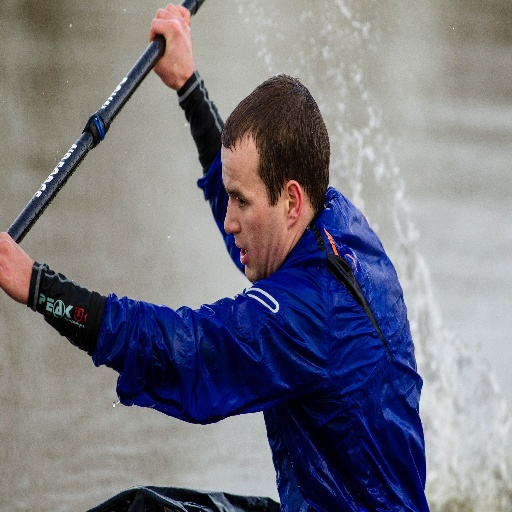hand: (140, 1, 204, 92), (0, 228, 35, 304)
